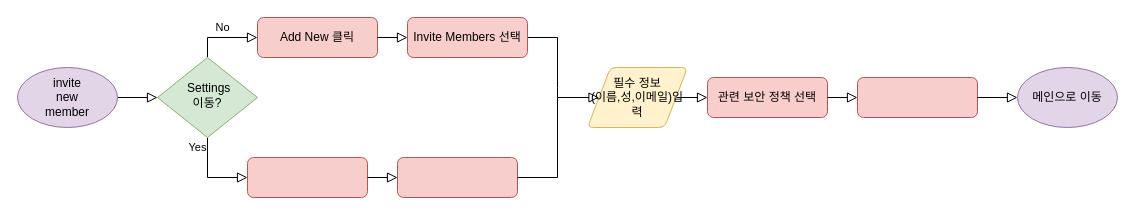
Image size: 1135x215. Some labels were removed from this diagram. Each missing label, with the centre of its shape:
"invite 버튼 클릭" belongs at pixel 457 177.
"members 선택" belongs at pixel 307 177.
"신규 팀원 초대" belongs at pixel 917 97.
